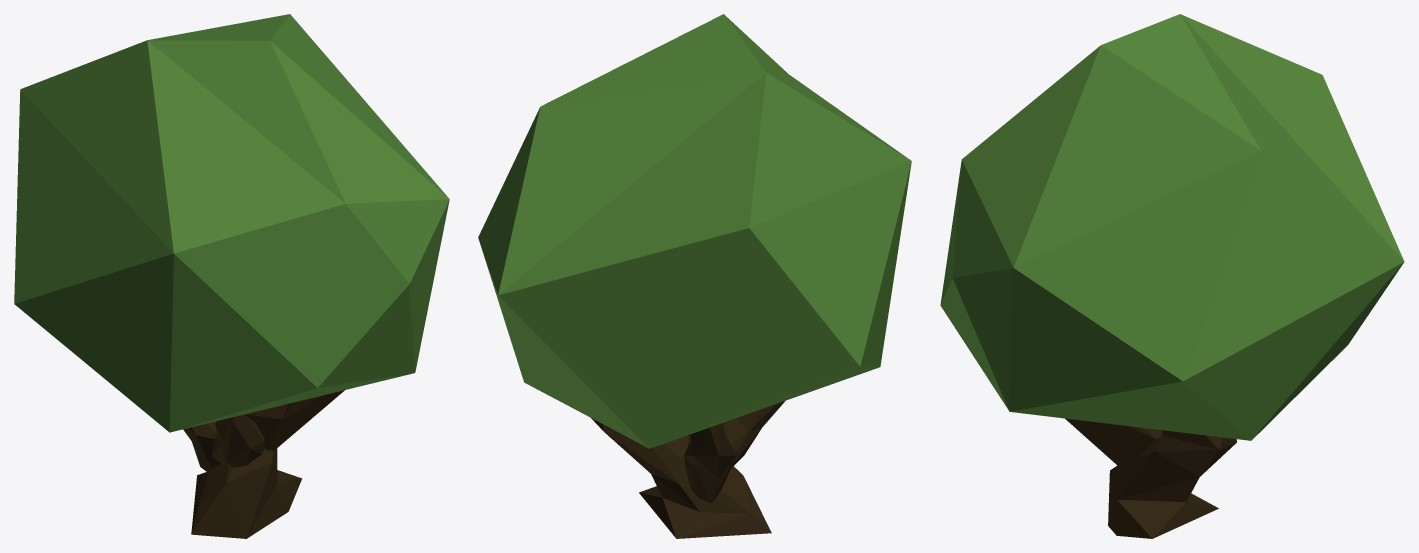
File: tree_01.fbx
The picture shows the model from 3 angles, left to right: view 1: azimuth 30°, elevation 25°; view 2: azimuth 150°, elevation 25°; view 3: azimuth 270°, elevation 25°; orthographic projection.
Parts seen in each view (by area): view 1: tree_02PM3D_Sphere3D_4, tree_02Merged_PM3D_Cylinder3D1_2; view 2: tree_02PM3D_Sphere3D_4, tree_02Merged_PM3D_Cylinder3D1_2; view 3: tree_02PM3D_Sphere3D_4, tree_02Merged_PM3D_Cylinder3D1_2.
Boxes of the visible parts, bbox=[...] form: tree_02PM3D_Sphere3D_4: bbox=[14, 14, 449, 432]; tree_02Merged_PM3D_Cylinder3D1_2: bbox=[183, 390, 344, 538]; tree_02PM3D_Sphere3D_4: bbox=[478, 14, 911, 448]; tree_02Merged_PM3D_Cylinder3D1_2: bbox=[591, 401, 784, 538]; tree_02PM3D_Sphere3D_4: bbox=[940, 14, 1404, 440]; tree_02Merged_PM3D_Cylinder3D1_2: bbox=[1065, 418, 1236, 538].
Bounding box in the file's own units: 140 × 167 × 143.
